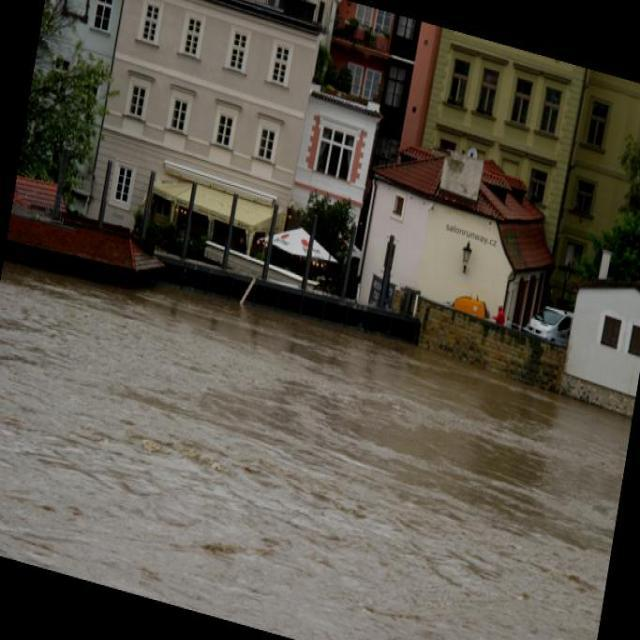flood: (0, 220, 635, 639)
